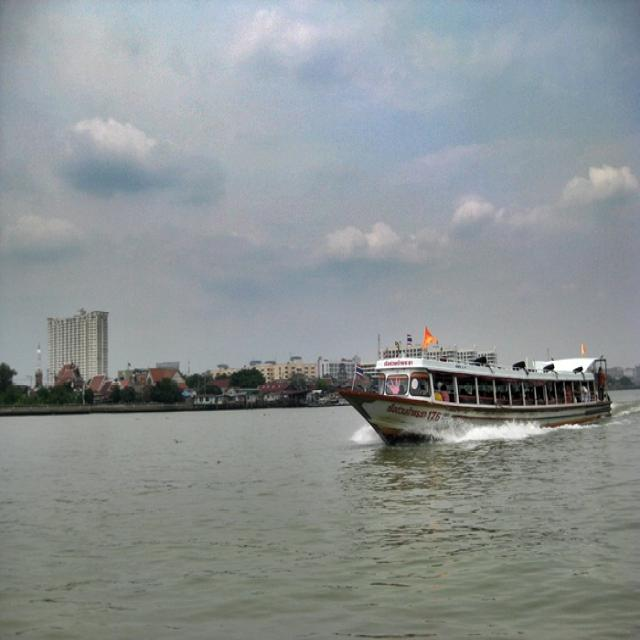houseboat: (337, 316, 621, 454)
